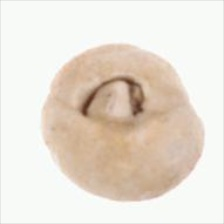L3: (74, 73, 150, 128)
L4: (41, 44, 204, 202)
